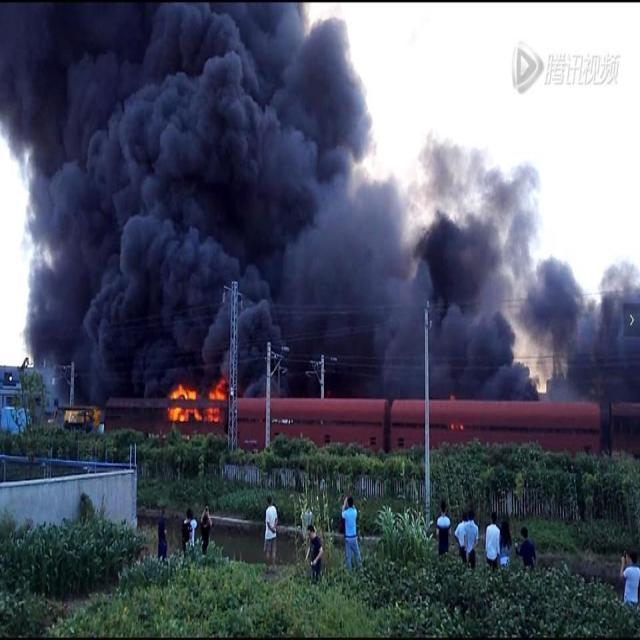Fire: (167, 375, 230, 423)
Smoke: (0, 1, 640, 420)
